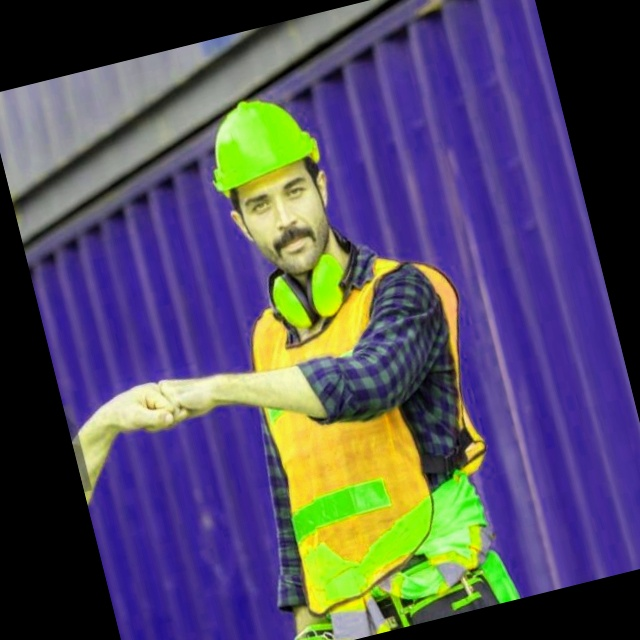Con_Casco: (194, 83, 349, 288)
Con_Chaleco: (231, 239, 524, 620)
